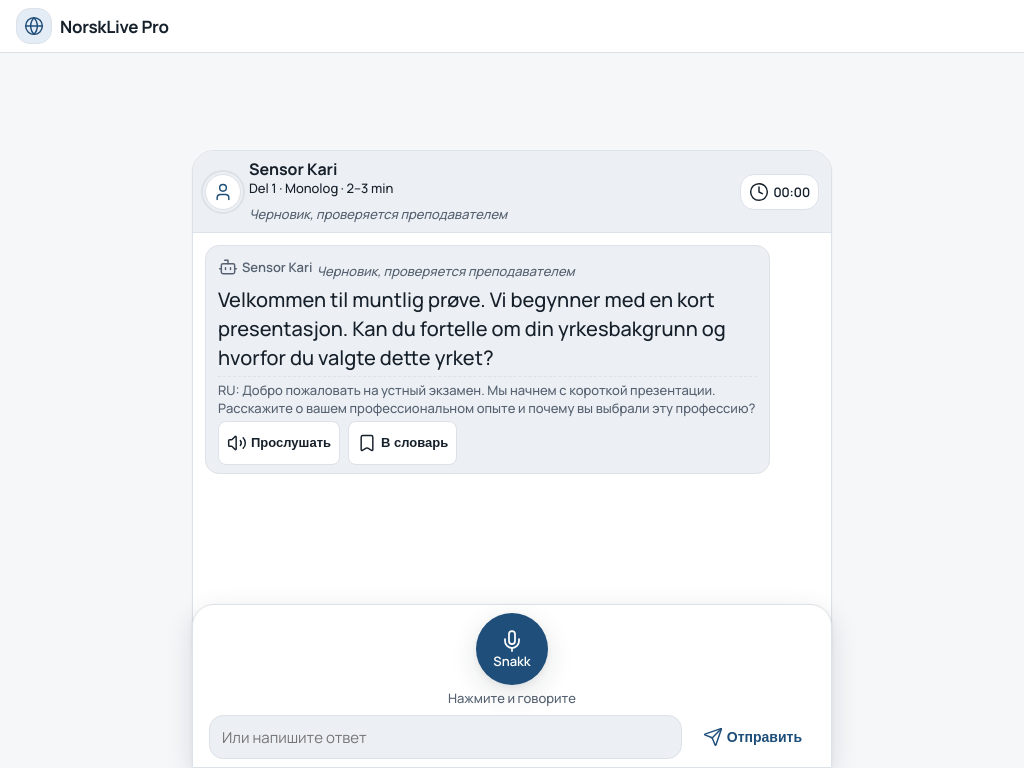
it: StudioPage (/ and /studio) M1a-3 Full UI, Chat & Voice › 6 (b). Server error keeps the user bubble and shows the «Повторить» card, with no canned correction
Type "Hei på deg!" into the field with id "userSpeechInput". click: (445, 737)
box: x1=209 y1=715 x2=682 y2=759
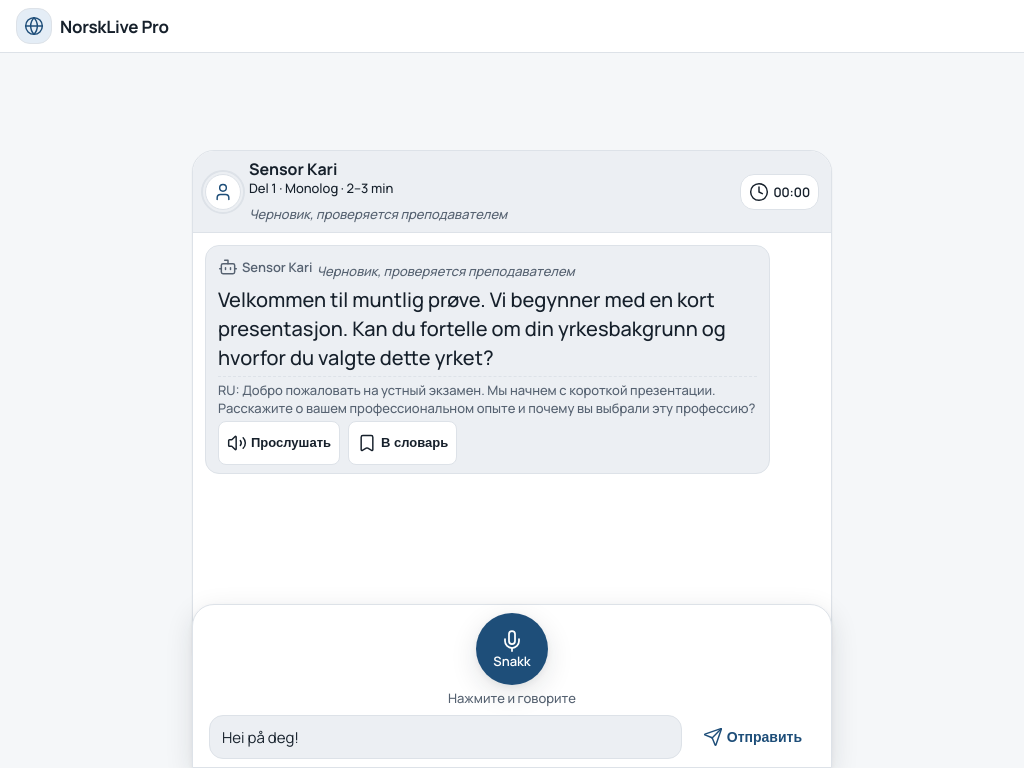
Click the button with id "sendSpeechBtn". click: (752, 737)
box: x1=690 y1=715 x2=815 y2=759
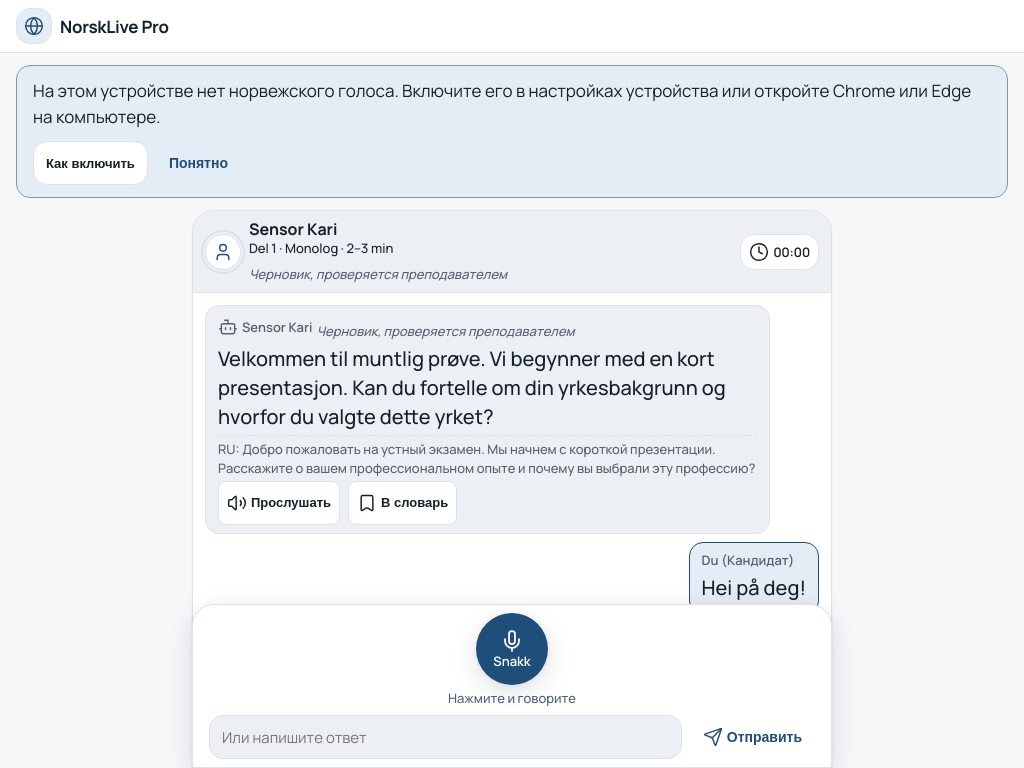
Result: the number of elements with class "msg-user" is 1 at x1=689 y1=542 x2=819 y2=615
Result: the element with class "msg-user" shows "Hei på deg!" at x1=702 y1=574 x2=806 y2=601
Result: the number of elements with class "msg-ai" is 1 at x1=205 y1=305 x2=770 y2=534
